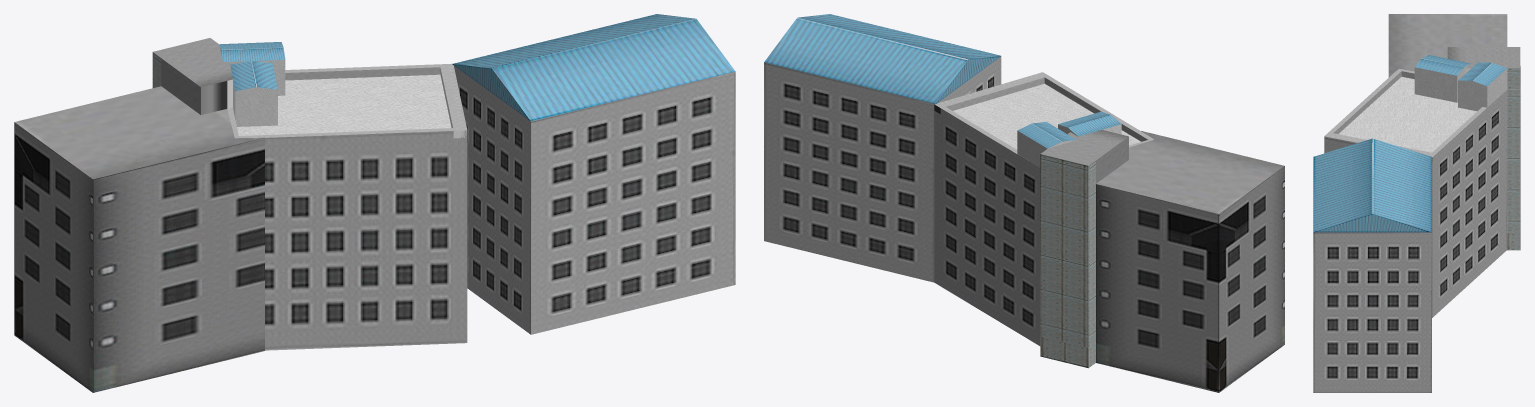
Rendered from edificiotraseroizquierdo.fbx.
The picture shows the model from 3 angles, left to right: view 1: azimuth 30°, elevation 25°; view 2: azimuth 150°, elevation 25°; view 3: azimuth 270°, elevation 25°; orthographic projection. The views are drawn at different scales.
Parts seen in each view (by area): view 1: Cube; view 2: Cube; view 3: Cube.
Boxes of the visible parts, x1=… form: Cube: x1=14, y1=14, x2=735, y2=392; Cube: x1=764, y1=14, x2=1284, y2=392; Cube: x1=1313, y1=14, x2=1520, y2=392.
Bounding box in the file's own units: 1752 × 691 × 703.
8 materials, 8 textured.
